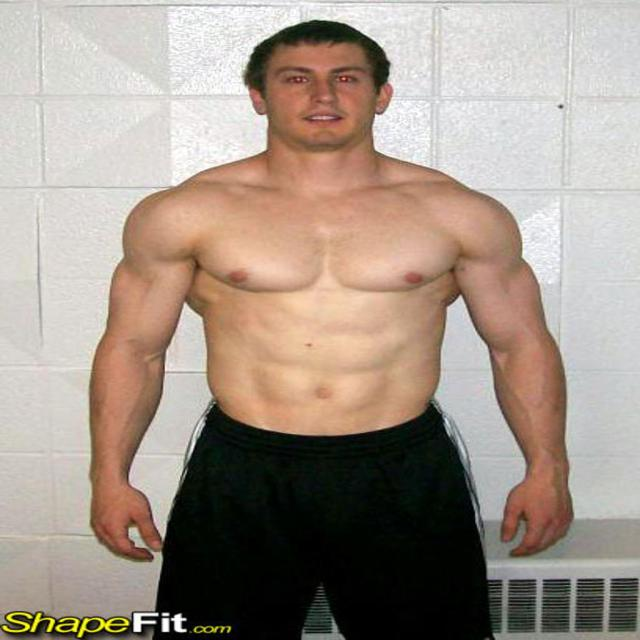Face: (246, 39, 376, 152)
